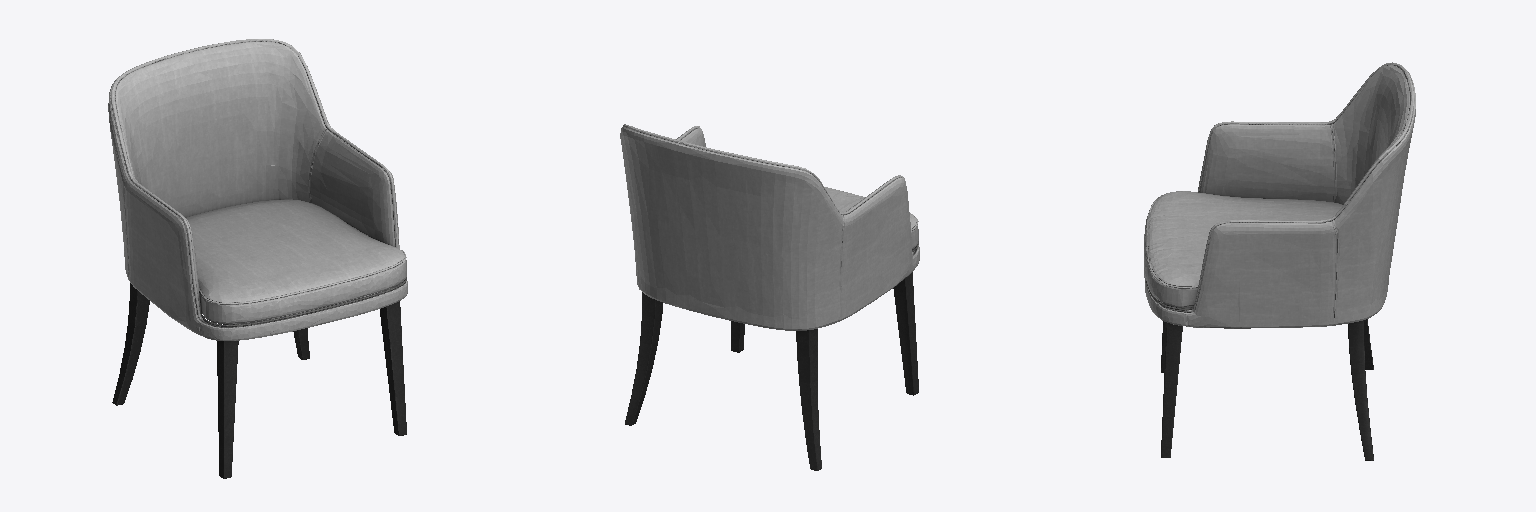
3 views of the same model, side by side, from view 1: azimuth 30°, elevation 25°; view 2: azimuth 150°, elevation 25°; view 3: azimuth 270°, elevation 25° (orthographic).
Parts seen in each view (by area): view 1: solid_001, solid_003; view 2: solid_001, solid_003; view 3: solid_001, solid_003.
Boxes of the visible parts, <box> form: solid_001: <box>108,39,407,340</box>; solid_003: <box>112,283,406,478</box>; solid_001: <box>620,124,919,330</box>; solid_003: <box>625,272,918,470</box>; solid_001: <box>1144,62,1415,328</box>; solid_003: <box>1161,305,1373,460</box>.
Size of the model in its own units: 1.02 by 1.44 by 1.13.
Materials: 1 (1 with a texture image).